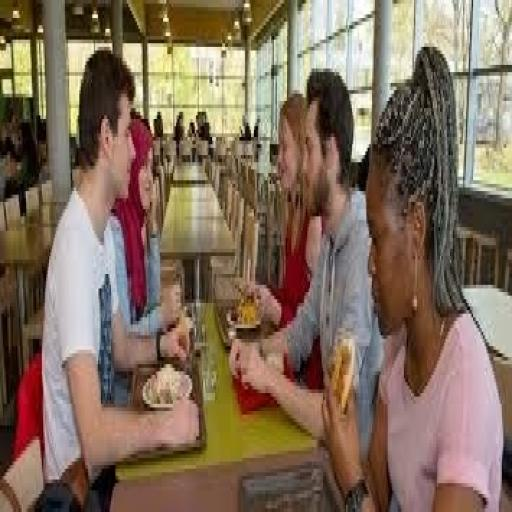eating: (320, 44, 505, 508), (39, 43, 202, 505)
